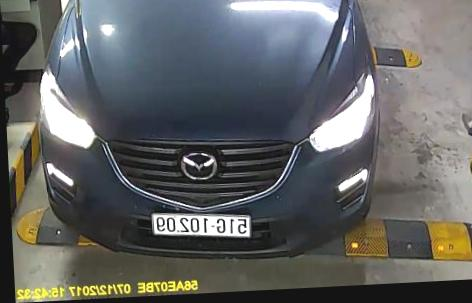License_Plate: (148, 207, 256, 242)
